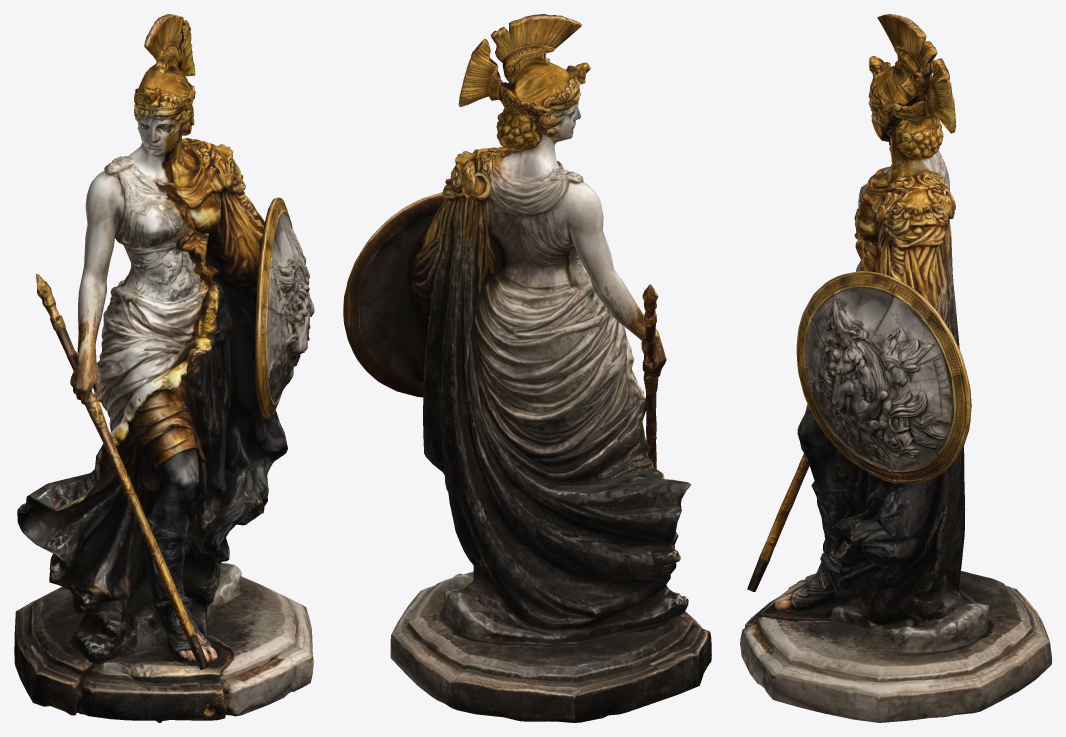
Rendered from athena-statue.glb.
3 views of the same model, side by side, from view 1: azimuth 30°, elevation 25°; view 2: azimuth 150°, elevation 25°; view 3: azimuth 270°, elevation 25° (orthographic).
Visible parts, largest first — view 1: tripo_node_80d93687-e6a6-4e80-a328-9235808cf87e; view 2: tripo_node_80d93687-e6a6-4e80-a328-9235808cf87e; view 3: tripo_node_80d93687-e6a6-4e80-a328-9235808cf87e.
Part boxes in pixels (left/top/right/bottom): tripo_node_80d93687-e6a6-4e80-a328-9235808cf87e: left=14, top=14, right=314, bottom=722; tripo_node_80d93687-e6a6-4e80-a328-9235808cf87e: left=343, top=14, right=711, bottom=722; tripo_node_80d93687-e6a6-4e80-a328-9235808cf87e: left=740, top=14, right=1051, bottom=722.
Bounding box in the file's own units: 0.49 × 0.978 × 0.4295.
1 material, 1 textured.
